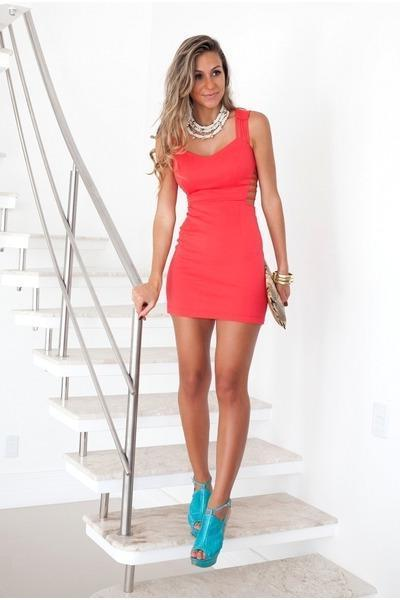dress: (154, 99, 276, 327)
